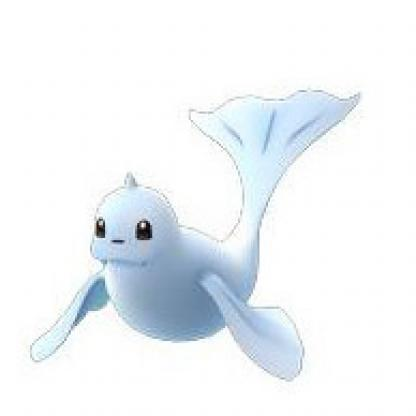Dewgong: (19, 67, 364, 389)
